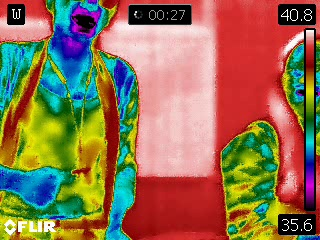human: (1, 1, 146, 240), (219, 28, 320, 236)
